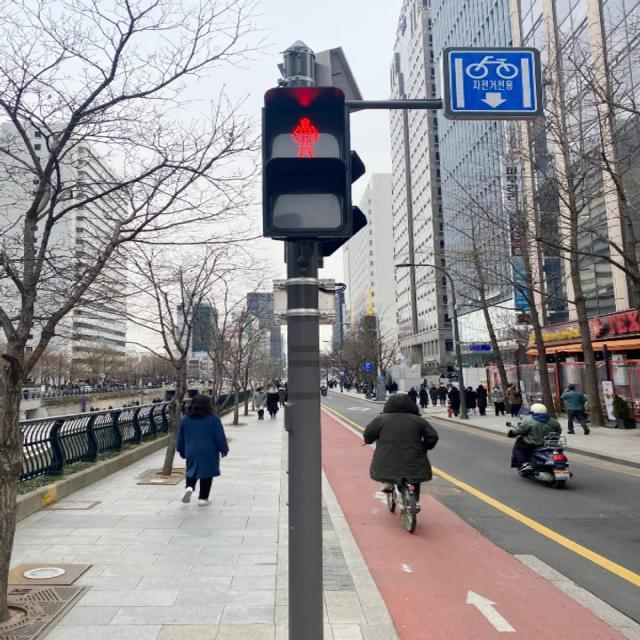red_light: (278, 108, 329, 159)
